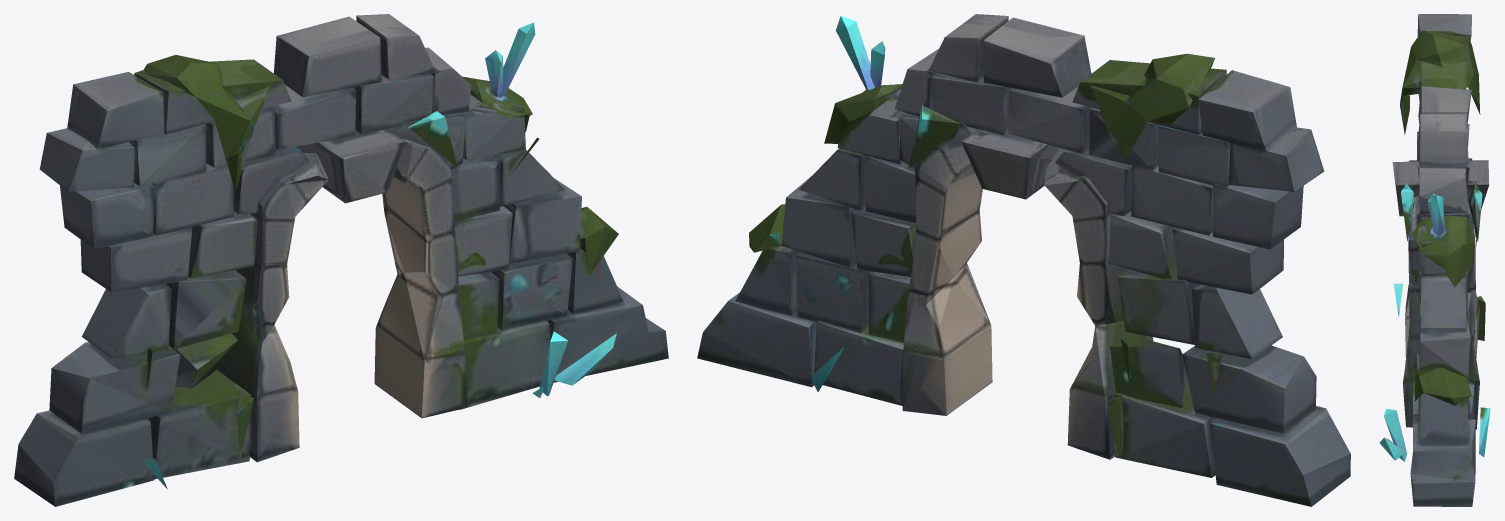
The model's file is a-mur-semis.glb.
3 views of the same model, side by side, from view 1: azimuth 30°, elevation 25°; view 2: azimuth 150°, elevation 25°; view 3: azimuth 270°, elevation 25° (orthographic). The views are drawn at different scales.
Parts seen in each view (by area): view 1: a-mur-semis; view 2: a-mur-semis; view 3: a-mur-semis.
Boxes of the visible parts, bbox=[...] form: a-mur-semis: bbox=[14, 14, 668, 506]; a-mur-semis: bbox=[697, 14, 1350, 506]; a-mur-semis: bbox=[1379, 14, 1490, 506].
Size of the model in its own units: 2 by 1.25 by 0.4158.
1 material, 1 textured.
